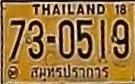0: (58, 19, 74, 58)
1: (100, 20, 104, 58)
3: (26, 20, 43, 58)
5: (76, 19, 92, 58)
7: (9, 19, 24, 59)
9: (111, 19, 128, 57)
SPK: (27, 63, 112, 82)
